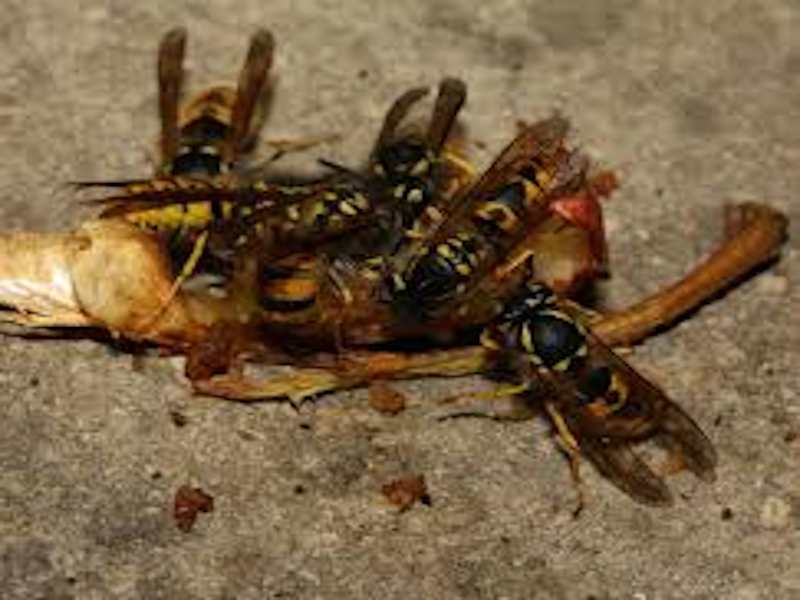chax: (481, 284, 741, 527), (416, 128, 592, 308), (131, 11, 277, 183), (290, 94, 461, 232), (251, 234, 400, 364)
